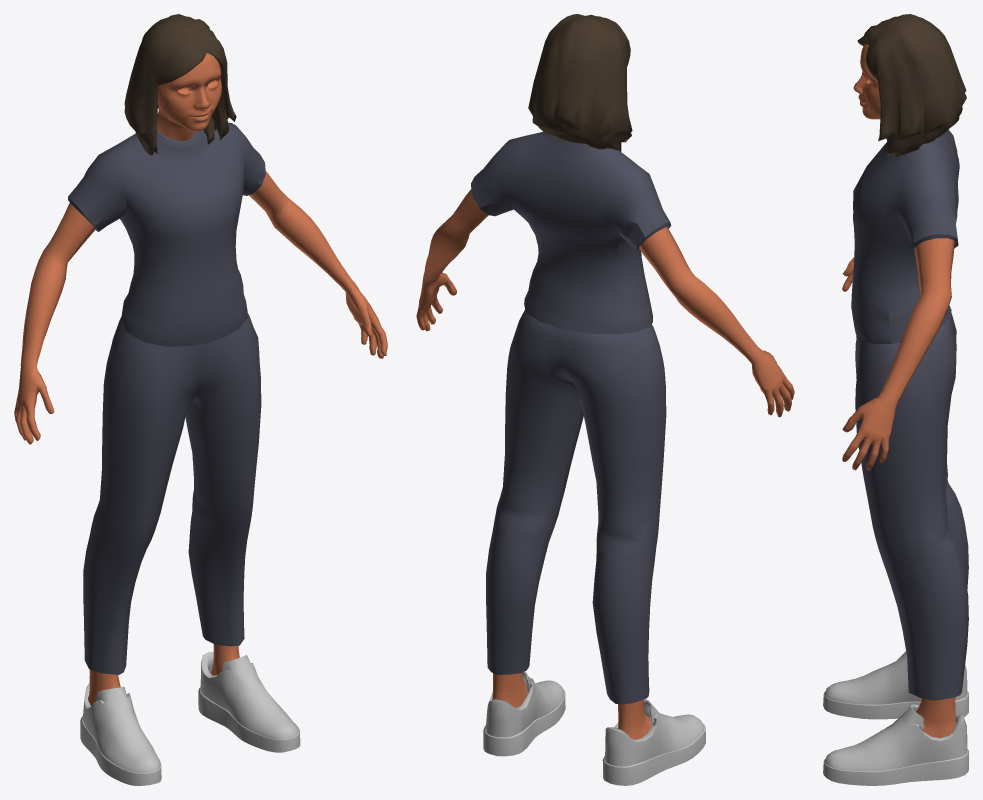
The model's file is woman2.glb.
3 renders of one model, left to right at view 1: azimuth 30°, elevation 25°; view 2: azimuth 150°, elevation 25°; view 3: azimuth 270°, elevation 25°, orthographic.
Parts seen in each view (by area): view 1: Wolf3D_Outfit_Bottom.001, Wolf3D_Outfit_Top.001, Wolf3D_Outfit_Footwear, Wolf3D_Body.003, Wolf3D_Hair.001, Wolf3D_Head.001, Wolf3D_Body.002; view 2: Wolf3D_Outfit_Bottom.001, Wolf3D_Outfit_Top.001, Wolf3D_Hair.001, Wolf3D_Body.003, Wolf3D_Outfit_Footwear, Wolf3D_Body.002; view 3: Wolf3D_Outfit_Bottom.001, Wolf3D_Outfit_Top.001, Wolf3D_Outfit_Footwear, Wolf3D_Hair.001, Wolf3D_Body.003, Wolf3D_Body.002, Wolf3D_Head.001.
Part boxes in pixels (x1,y1,x2,y2): Wolf3D_Outfit_Bottom.001: (83, 313, 261, 674); Wolf3D_Outfit_Top.001: (68, 122, 265, 346); Wolf3D_Outfit_Footwear: (80, 652, 300, 785); Wolf3D_Body.003: (14, 171, 387, 444); Wolf3D_Hair.001: (124, 14, 236, 155); Wolf3D_Head.001: (157, 53, 221, 141); Wolf3D_Body.002: (88, 644, 239, 705); Wolf3D_Outfit_Bottom.001: (486, 309, 666, 704); Wolf3D_Outfit_Top.001: (471, 132, 671, 334); Wolf3D_Hair.001: (528, 14, 632, 151); Wolf3D_Body.003: (416, 189, 794, 417); Wolf3D_Outfit_Footwear: (483, 671, 705, 785); Wolf3D_Body.002: (492, 673, 651, 739); Wolf3D_Outfit_Bottom.001: (855, 312, 968, 700); Wolf3D_Outfit_Top.001: (851, 129, 959, 343); Wolf3D_Outfit_Footwear: (823, 651, 968, 785); Wolf3D_Hair.001: (857, 14, 966, 156); Wolf3D_Body.003: (842, 238, 954, 470); Wolf3D_Body.002: (916, 697, 955, 737); Wolf3D_Head.001: (853, 44, 880, 119).
Bounding box in the file's own units: 9.48 × 18.02 × 3.3.
Materials: 4 (1 with a texture image).
